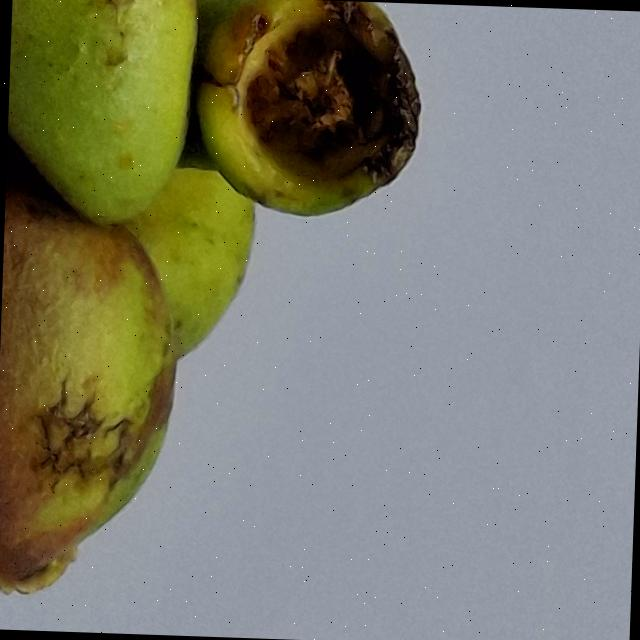mangosteen: (0, 0, 471, 640)
